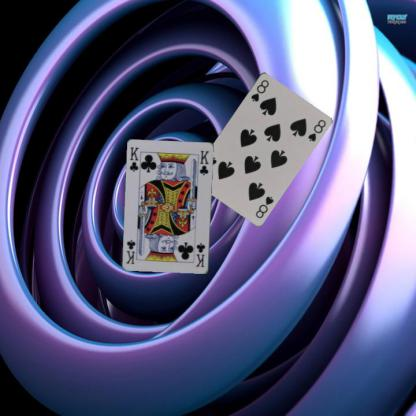8s: (253, 193, 275, 220), (248, 77, 270, 103)
Kc: (127, 145, 141, 173), (194, 240, 206, 268)
